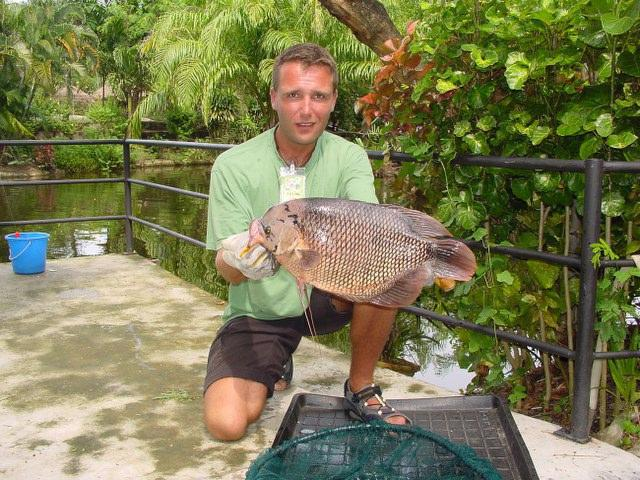Sirip Dada: (275, 232, 333, 278)
Sirip Ekor: (421, 226, 492, 302)
